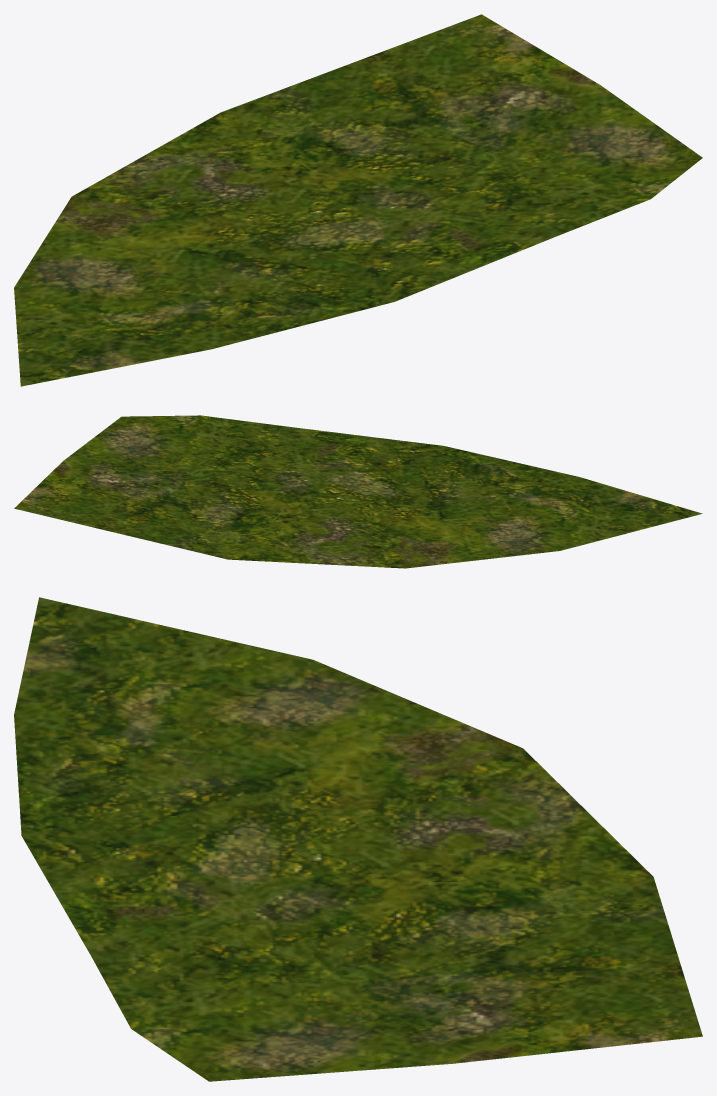
File: OVERHILL_A_01_LINE167.fbx
3 renders of one model, top to bottom at view 1: azimuth 30°, elevation 25°; view 2: azimuth 150°, elevation 25°; view 3: azimuth 270°, elevation 25°, orthographic. The views are drawn at different scales.
Visible parts, largest first — view 1: OVERHILL_A_01_LINE167; view 2: OVERHILL_A_01_LINE167; view 3: OVERHILL_A_01_LINE167.
Boxes of the visible parts, x1,y1,x2,y2 form: OVERHILL_A_01_LINE167: (14, 14, 702, 386); OVERHILL_A_01_LINE167: (14, 415, 702, 568); OVERHILL_A_01_LINE167: (14, 597, 702, 1081).
Size of the model in its own units: 28069 by 590 by 16870.
Materials: 1 (1 with a texture image).
